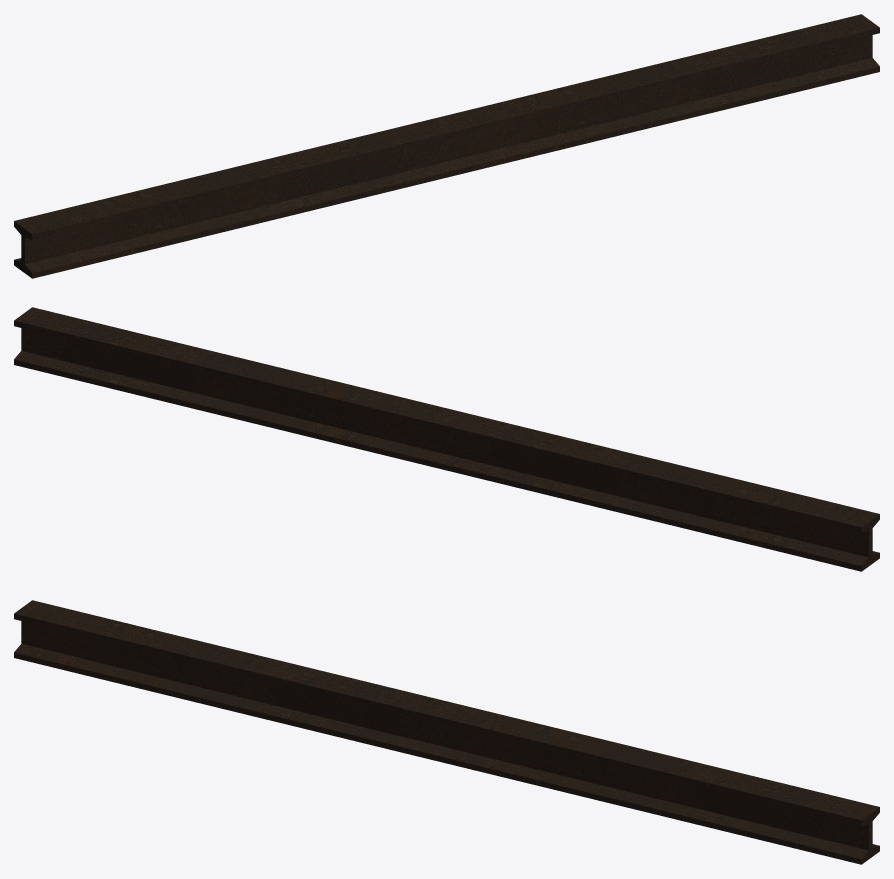
Rendered from beam_hc_horizonatal_1.glb.
3 renders of one model, top to bottom at view 1: azimuth 30°, elevation 25°; view 2: azimuth 150°, elevation 25°; view 3: azimuth 330°, elevation 25°, orthographic.
Visible parts, largest first — view 1: beam_hc_horizonatal_1; view 2: beam_hc_horizonatal_1; view 3: beam_hc_horizonatal_1.
Boxes of the visible parts, x1,y1,x2,y2 form: beam_hc_horizonatal_1: (14,14,879,278); beam_hc_horizonatal_1: (14,307,879,571); beam_hc_horizonatal_1: (14,600,879,864).
Bounding box in the file's own units: 8 × 0.4 × 0.3.
Materials: 1 (1 with a texture image).
